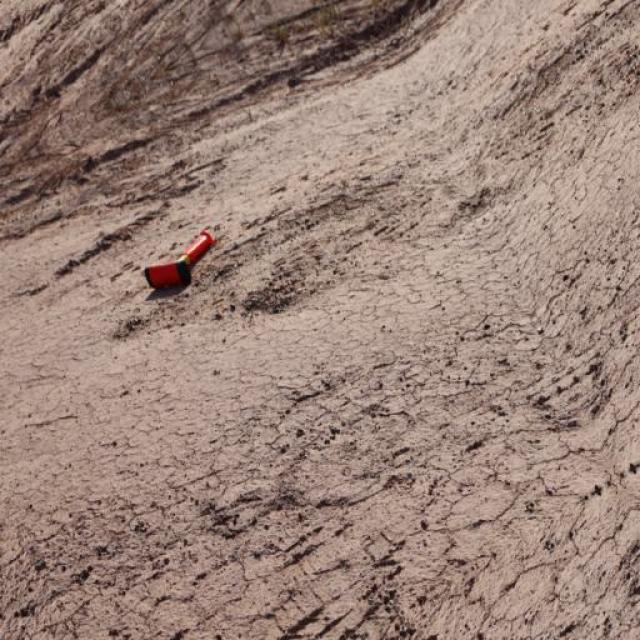mallet: (143, 226, 215, 290)
